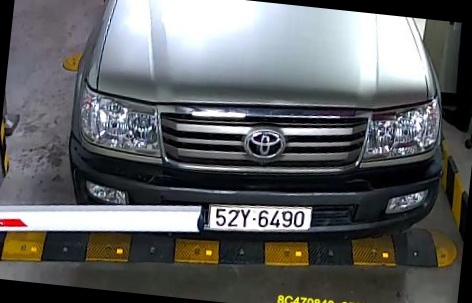plate: (206, 199, 318, 242)
